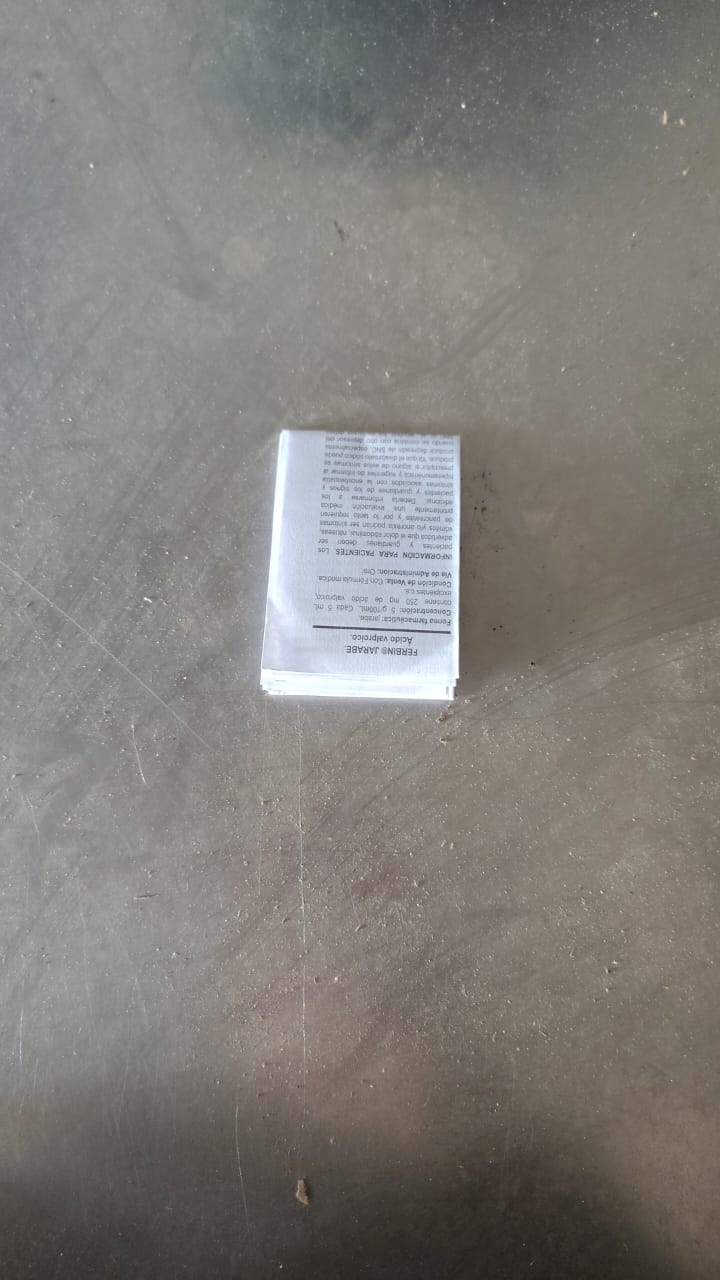Papel: (259, 430, 464, 703)
